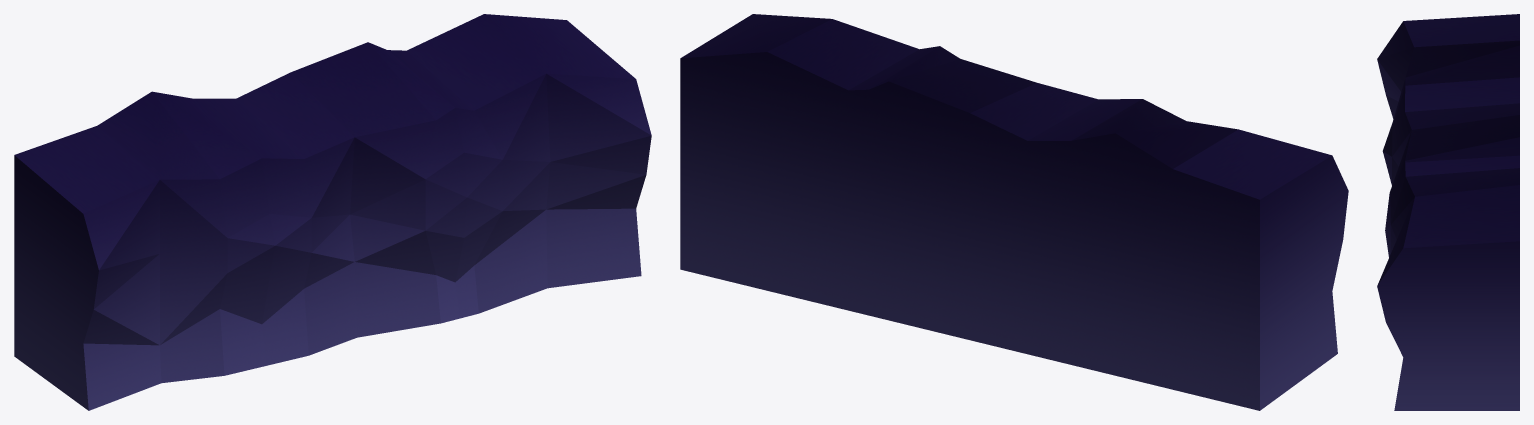
Rendered from Mod_Wall_CREATURE.fbx.
3 renders of one model, left to right at view 1: azimuth 30°, elevation 25°; view 2: azimuth 150°, elevation 25°; view 3: azimuth 270°, elevation 25°, orthographic. The views are drawn at different scales.
Parts seen in each view (by area): view 1: Mod_Wall_CREATURE; view 2: Mod_Wall_CREATURE; view 3: Mod_Wall_CREATURE.
Part boxes in pixels (<box>): Mod_Wall_CREATURE: <box>14,14,651,410</box>; Mod_Wall_CREATURE: <box>680,14,1348,410</box>; Mod_Wall_CREATURE: <box>1377,14,1519,410</box>.
Bounding box in the file's own units: 16.23 × 6.49 × 4.31.
Materials: 1 (1 with a texture image).
